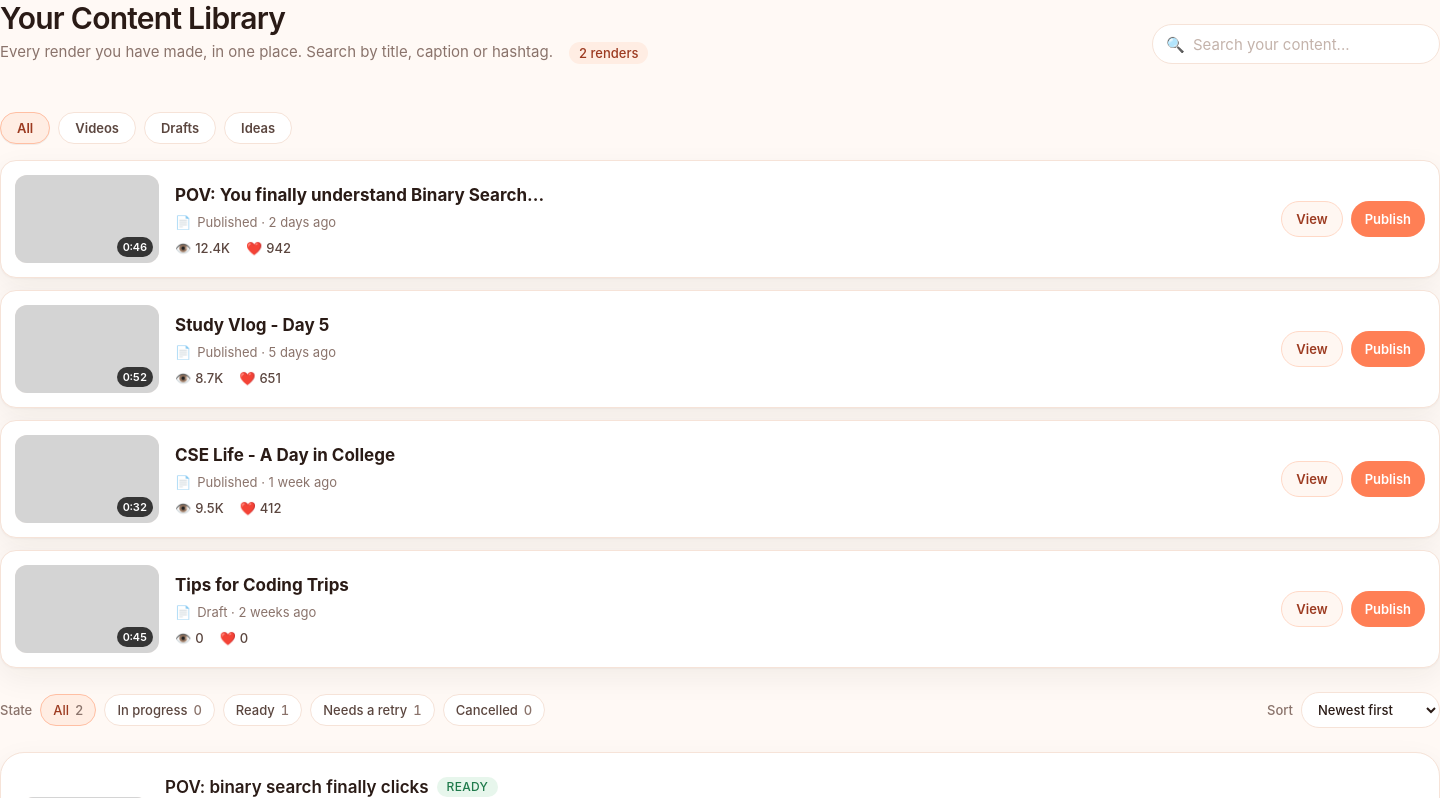
LibraryPage › clears the search and the state filter together
Click the button "Needs a retry 1" at (373, 710), box x1=310 y1=694 x2=435 y2=726
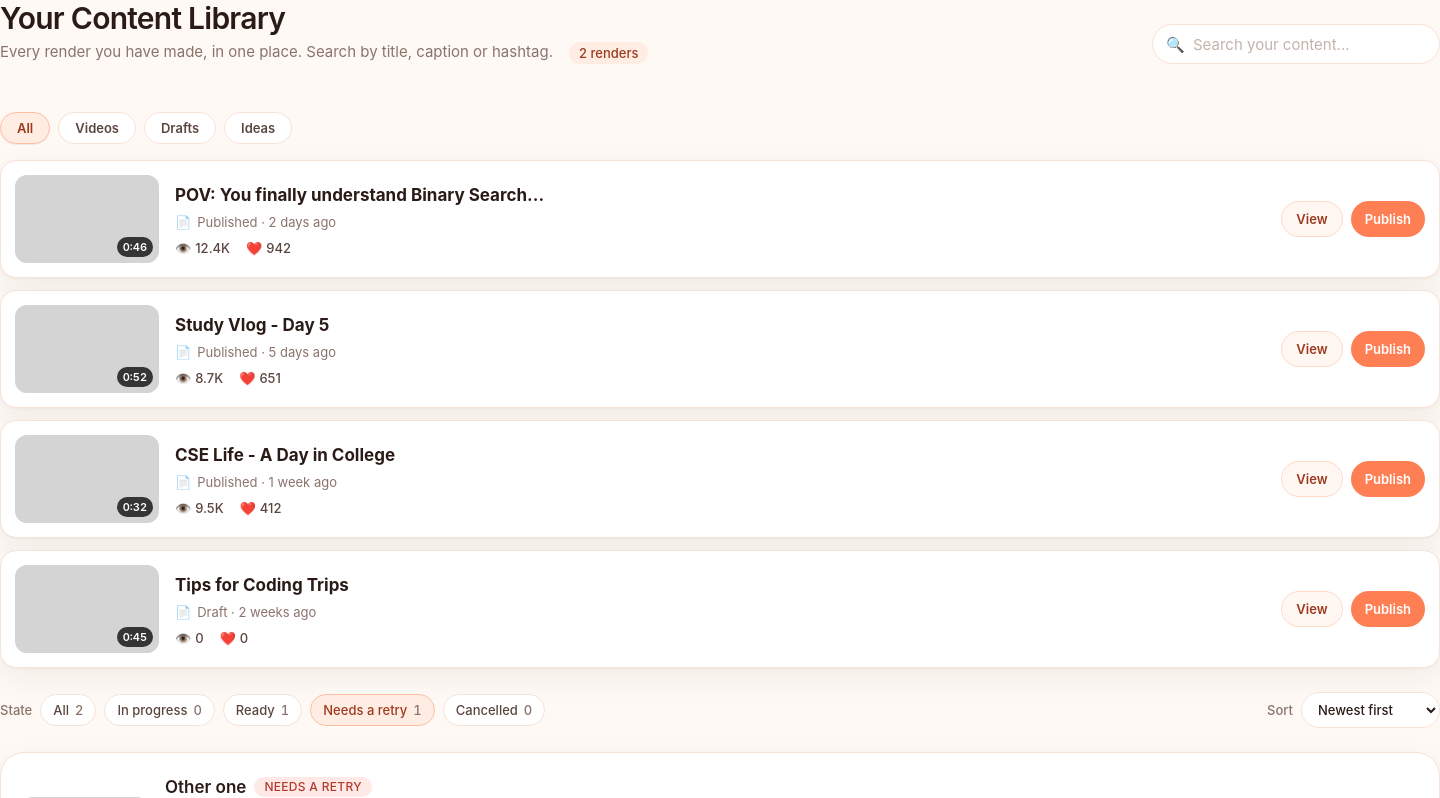
Type "nothing here" into the search field named "Search your library" at (1296, 44), box x1=1152 y1=24 x2=1439 y2=64
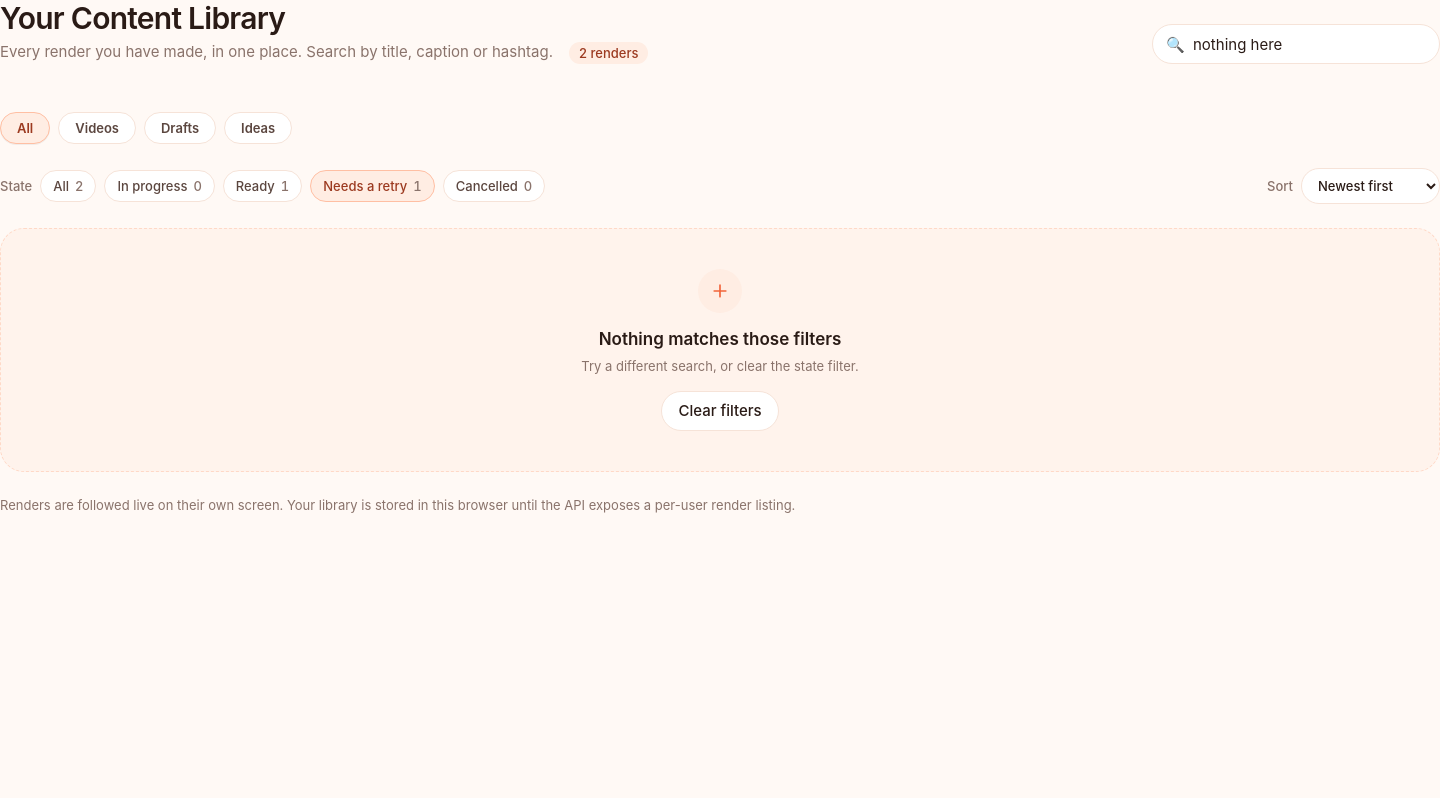
Click the button "Clear filters" at (720, 411), box x1=661 y1=391 x2=779 y2=431
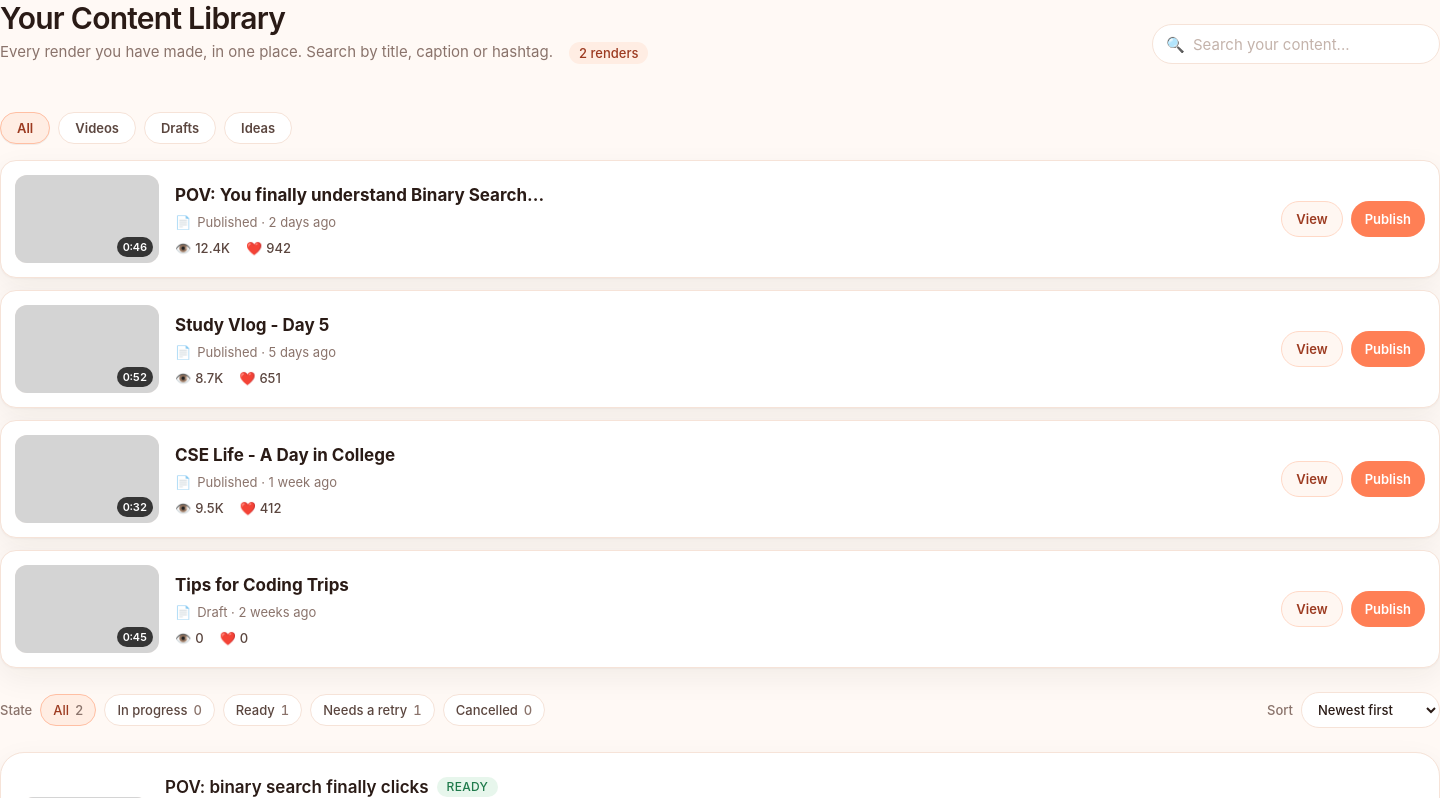
Expected: the search field named "Search your library" is empty, x1=1152 y1=24 x2=1439 y2=64
